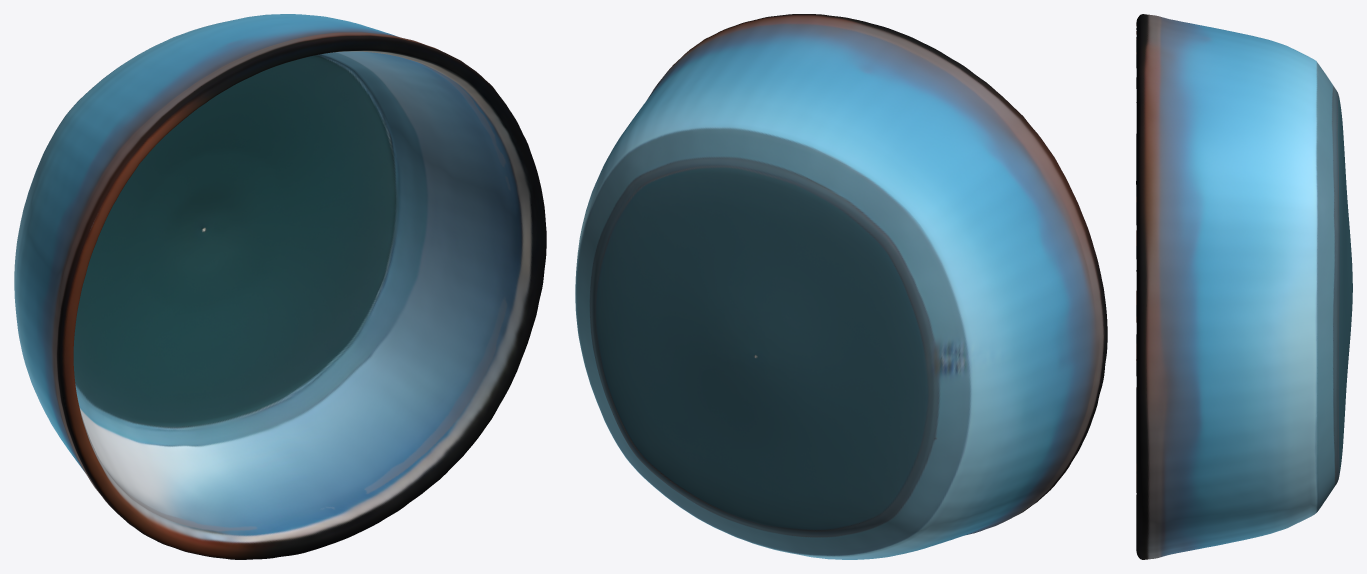
File: base_basic_pbr.glb
3 views of the same model, side by side, from view 1: azimuth 30°, elevation 25°; view 2: azimuth 150°, elevation 25°; view 3: azimuth 270°, elevation 25° (orthographic). The views are drawn at different scales.
Visible parts, largest first — view 1: model; view 2: model; view 3: model.
Part boxes in pixels (x1,y1,x2,y2): model: [14, 14, 546, 559]; model: [575, 14, 1107, 559]; model: [1136, 14, 1352, 559].
Bounding box in the file's own units: 1.9 × 1.9 × 0.7599.
Materials: 1 (1 with a texture image).
